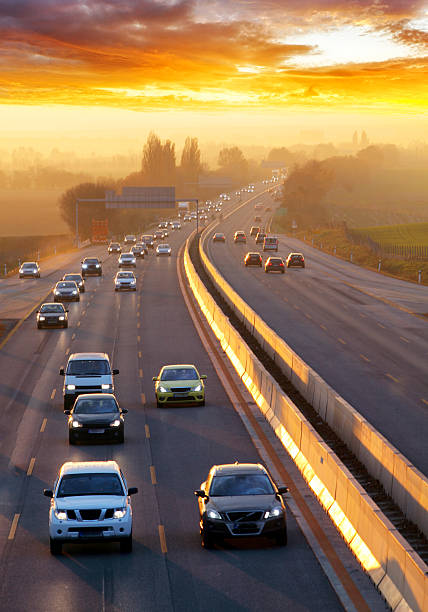car: (47, 463, 134, 547), (201, 465, 285, 545), (66, 391, 124, 441), (64, 352, 116, 407), (155, 363, 204, 404), (36, 302, 67, 329), (54, 281, 80, 301), (114, 270, 136, 291), (82, 257, 103, 276), (64, 273, 86, 291), (20, 261, 40, 280), (264, 257, 286, 274), (243, 252, 263, 268), (287, 253, 306, 268), (263, 237, 279, 252), (119, 254, 136, 268), (156, 243, 171, 257), (141, 234, 153, 248), (131, 247, 144, 259), (255, 232, 266, 245), (124, 234, 136, 245), (213, 233, 225, 244), (235, 232, 247, 243), (109, 242, 122, 252), (250, 226, 260, 237), (158, 221, 168, 230), (154, 231, 164, 239), (172, 222, 181, 229), (183, 215, 191, 222)
